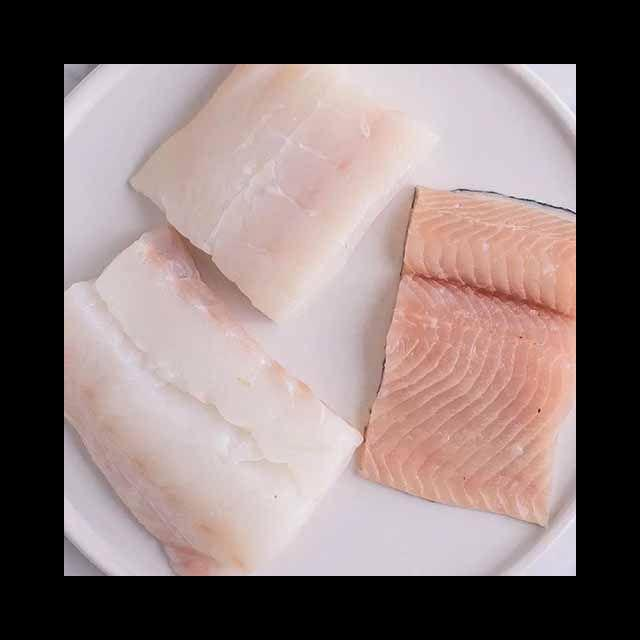fish: (64, 215, 371, 576), (121, 64, 452, 334)
